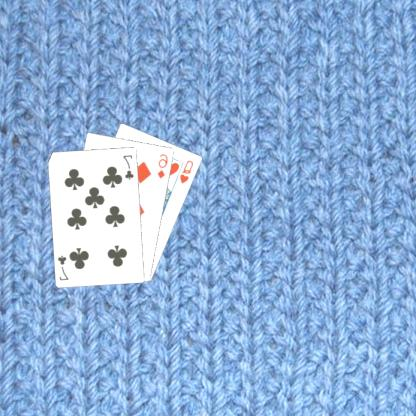6D: (156, 151, 172, 180)
7C: (57, 252, 72, 282), (122, 152, 137, 180)
QH: (179, 157, 197, 185)
